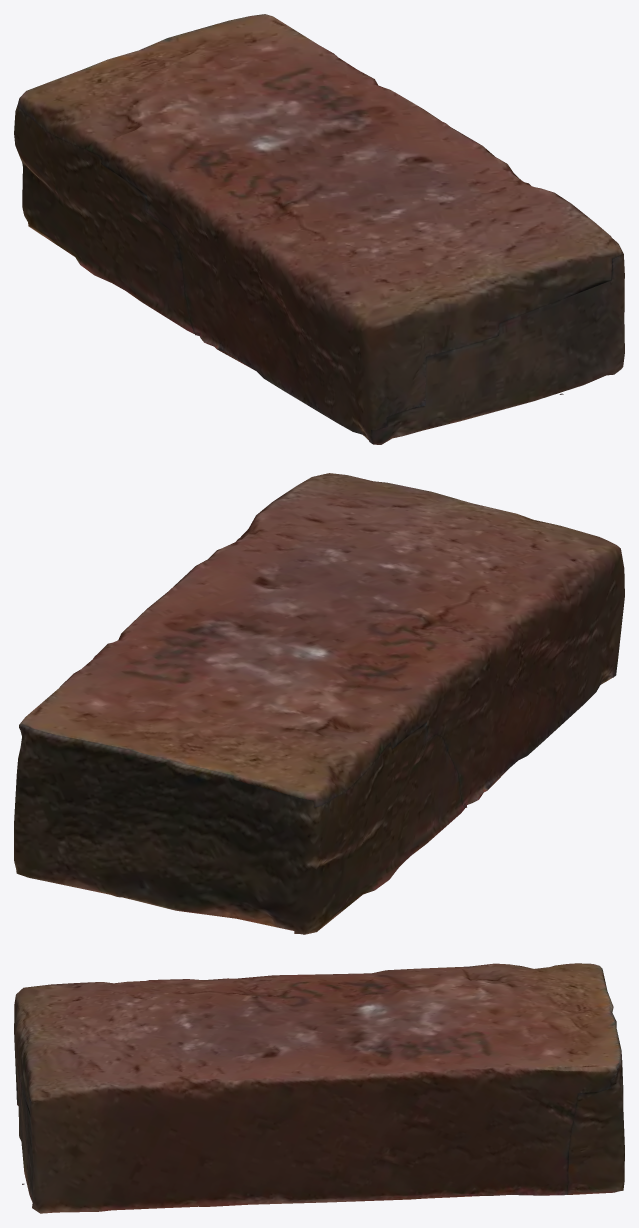
The model's file is brick.glb.
3 renders of one model, top to bottom at view 1: azimuth 30°, elevation 25°; view 2: azimuth 150°, elevation 25°; view 3: azimuth 270°, elevation 25°, orthographic. The views are drawn at different scales.
Visible parts, largest first — view 1: LIBRA1_1; view 2: LIBRA1_1; view 3: LIBRA1_1.
Part boxes in pixels (<box>): LIBRA1_1: <box>14,14,624,444</box>; LIBRA1_1: <box>14,473,624,934</box>; LIBRA1_1: <box>14,963,624,1213</box>.
Bounding box in the file's own units: 0.1173 × 0.0529 × 0.2198.
1 material, 1 textured.
